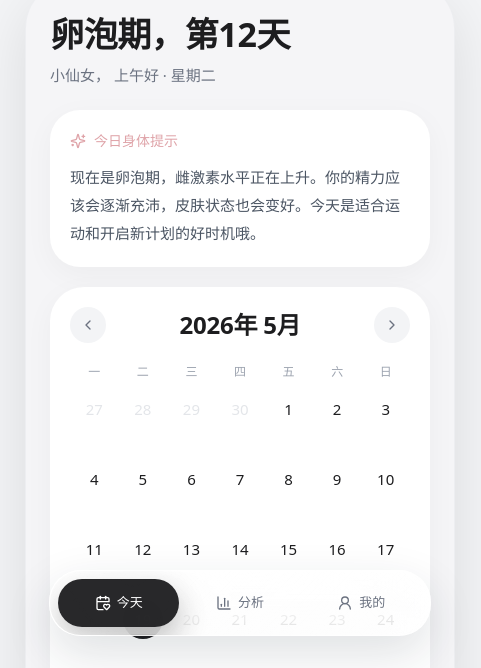
Test: Half Moon app › switches calendar months with previous and next controls
Click the button named "下一月". click: (392, 325)
box: [374, 307, 410, 343]
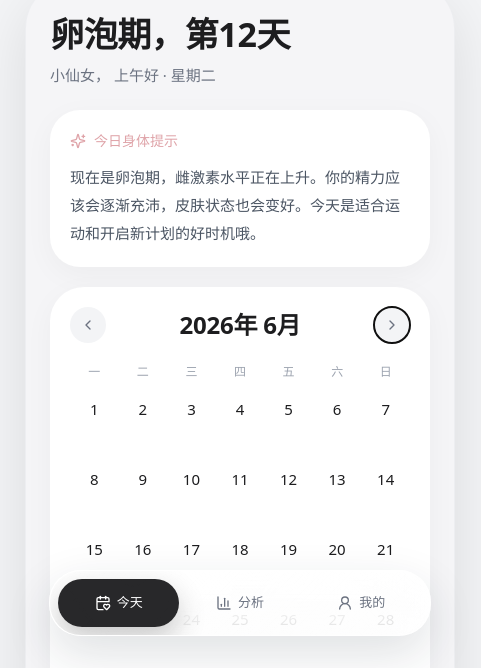
Expected: the heading "2026年 6月" is shown, [180, 307, 300, 343]
Expected: the button named "6月1日" is shown, [70, 389, 119, 455]
Click the button named "上一月". click: (88, 325)
box: [70, 307, 106, 343]
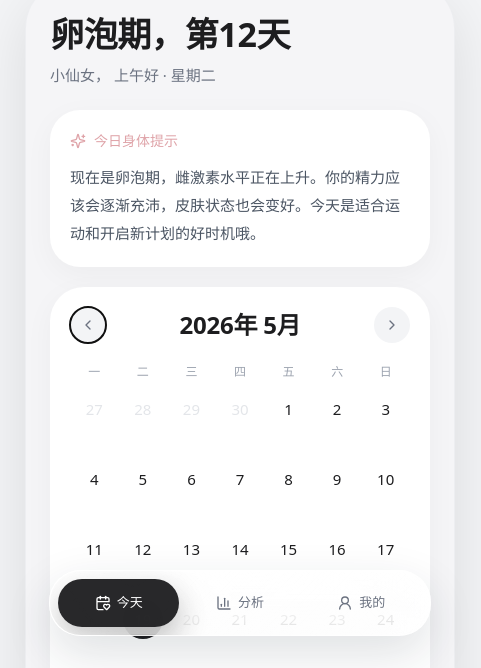
Expected: the heading "2026年 5月" is shown, [180, 307, 300, 343]
